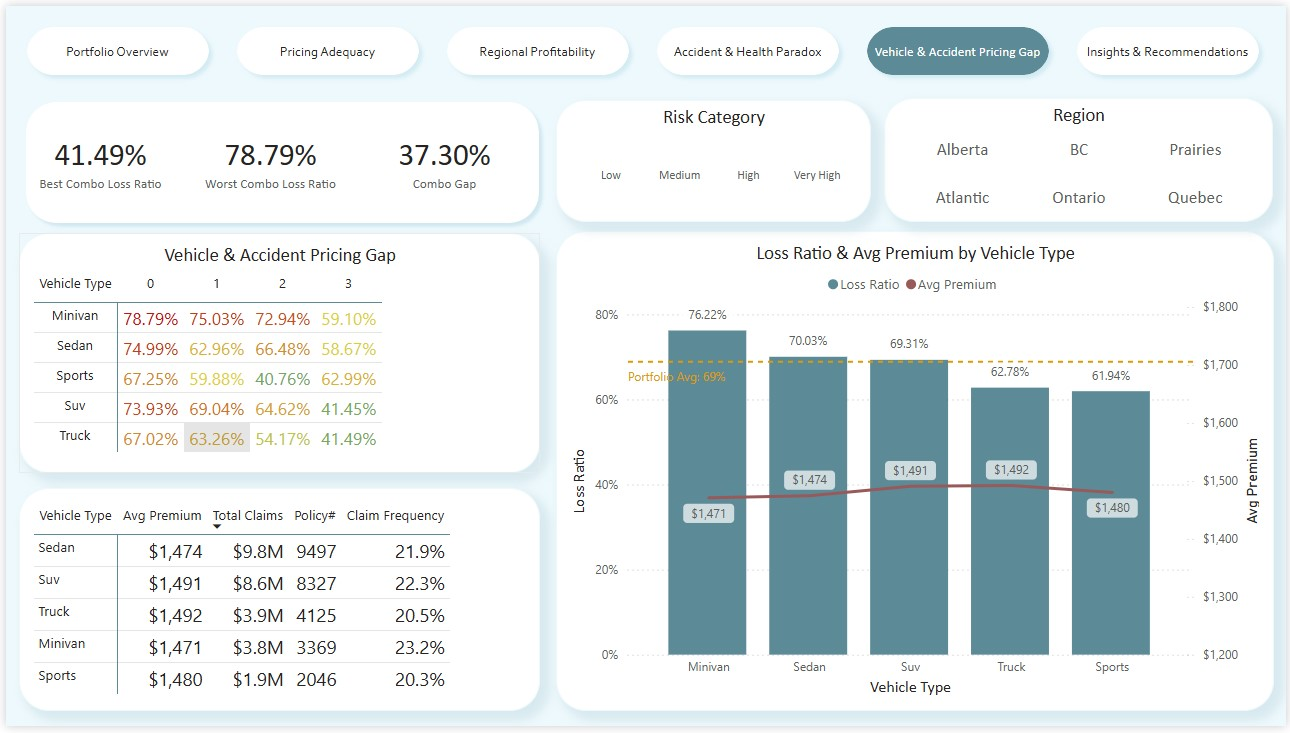

The page's visual inventory and layout, read from the dashboard file:
{"tool":"powerbi","page":{"name":"Vehicle & Accident Pricing Gap","canvas":[1280,720],"ordinal":4},"visuals":[{"type":"shape","box":[12,88,529,137],"z":0},{"type":"pageNavigator","box":[11.5,12.4,1255.6,65.6],"z":1000},{"type":"pivotTable","title":"Vehicle & Accident Pricing Gap","fields":{"Rows":["INSURANCE_DETAIL.VEHICLETYPE"],"Columns":["INSURANCE_DETAIL.PREVIOUSACCIDENTS"],"Values":["INSURANCE_DETAIL.Loss Ratio"]},"box":[13,227,521,240],"z":2000},{"type":"lineStackedColumnComboChart","title":"Loss Ratio & Avg Premium by Vehicle Type","fields":{"Y":["INSURANCE_DETAIL.Loss Ratio"],"Y2":["INSURANCE_DETAIL.Avg Premium"],"Category":["INSURANCE_DETAIL.VEHICLETYPE"]},"box":[550,225,718,480],"z":3000},{"type":"cardVisual","title":"Accident #","fields":{"Data":["INSURANCE_DETAIL.Best Combo Loss Ratio"]},"box":[15,94,160,115],"z":4000},{"type":"cardVisual","title":"Accident #","fields":{"Data":["INSURANCE_DETAIL.Worst Combo Loss Ratio"]},"box":[185,94,160,115],"z":5000},{"type":"cardVisual","title":"Accident #","fields":{"Data":["INSURANCE_DETAIL.Combo Gap"]},"box":[359,94,160,115],"z":6000},{"type":"slicer","title":"Region","fields":{"Values":["INSURANCE_DETAIL.REGION"]},"box":[878,92,389,124],"z":7000},{"type":"slicer","title":"Risk Category","fields":{"Values":["INSURANCE_DETAIL.RISKCATEGORY"]},"box":[550,94,315,122],"z":8000},{"type":"pivotTable","title":"Avg Premium vs Avg Risk Score ","fields":{"Values":["INSURANCE_DETAIL.Avg Premium","INSURANCE_DETAIL.Total Claims (M)","CountNonNull(INSURANCE_DETAIL.POLICYID)","INSURANCE_DETAIL.Claim Frequency"],"Rows":["INSURANCE_DETAIL.VEHICLETYPE"]},"box":[13,482,521,223],"z":9000}]}

Visuals, with their boxes in screenshot pixels (x1, y1, x2, y2), scaled from the page's 1280x720 canvas onto the 1290x733 screenshot:
shape: <box>12,90,545,229</box>
pageNavigator: <box>12,13,1277,79</box>
"Vehicle & Accident Pricing Gap" pivotTable: <box>13,231,538,475</box>
"Loss Ratio & Avg Premium by Vehicle Type" lineStackedColumnComboChart: <box>554,229,1278,718</box>
"Accident #" cardVisual: <box>15,96,176,213</box>
"Accident #" cardVisual: <box>186,96,348,213</box>
"Accident #" cardVisual: <box>362,96,523,213</box>
"Region" slicer: <box>885,94,1277,220</box>
"Risk Category" slicer: <box>554,96,872,220</box>
"Avg Premium vs Avg Risk Score " pivotTable: <box>13,491,538,718</box>
